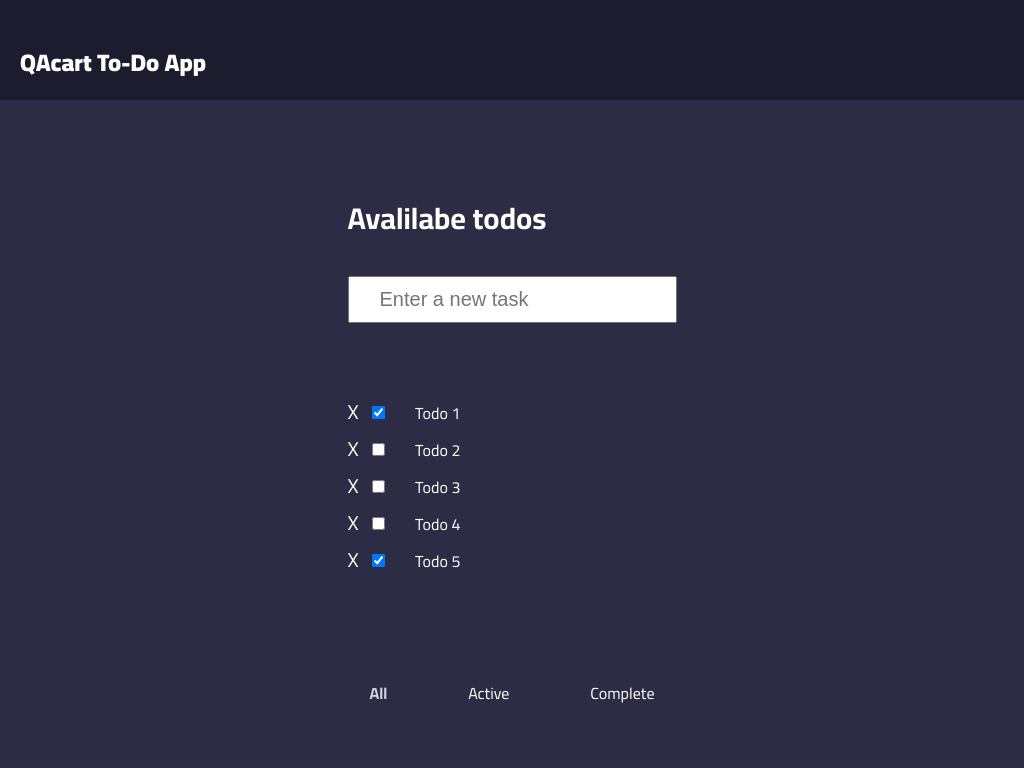
it: Filter testing › should filter completed todos correctly
What coordinates should you click on to do the following:
click the link "Complete"
I would click on:
 (622, 693)
Its box is [588, 678, 656, 708].
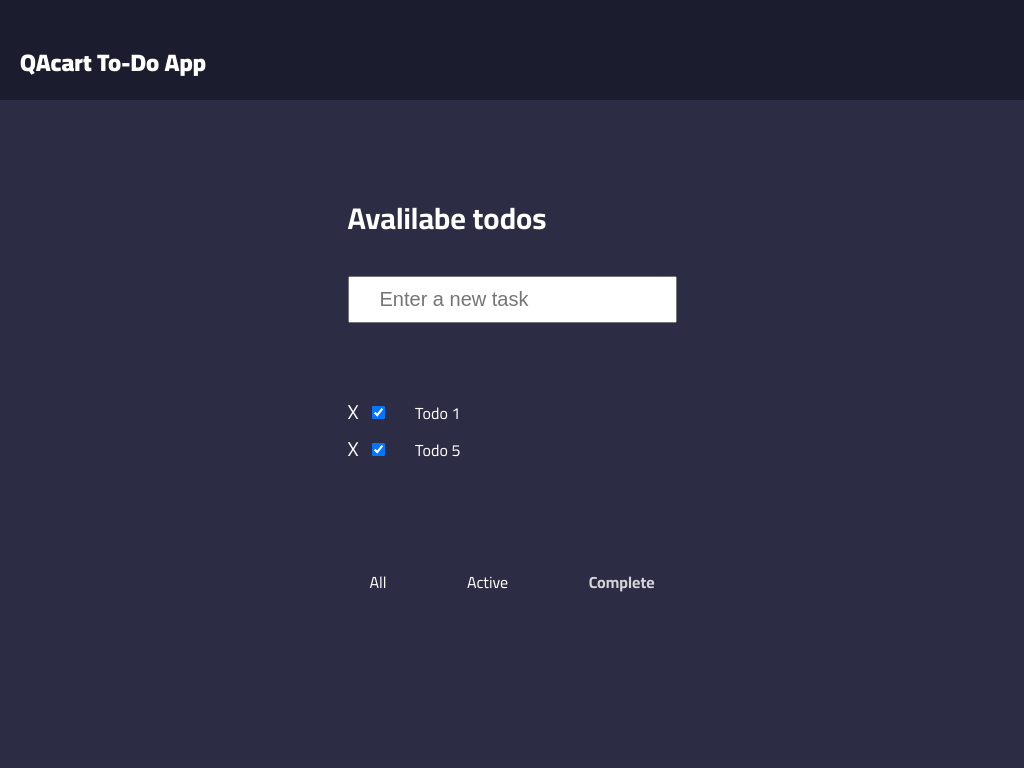
Expected: the checkbox with class "todo-checkbox" next to "Todo 1" is checked, [372, 406, 385, 419]
Now the checkbox with class "todo-checkbox" next to "Todo 5" is checked, box [372, 443, 385, 456]
